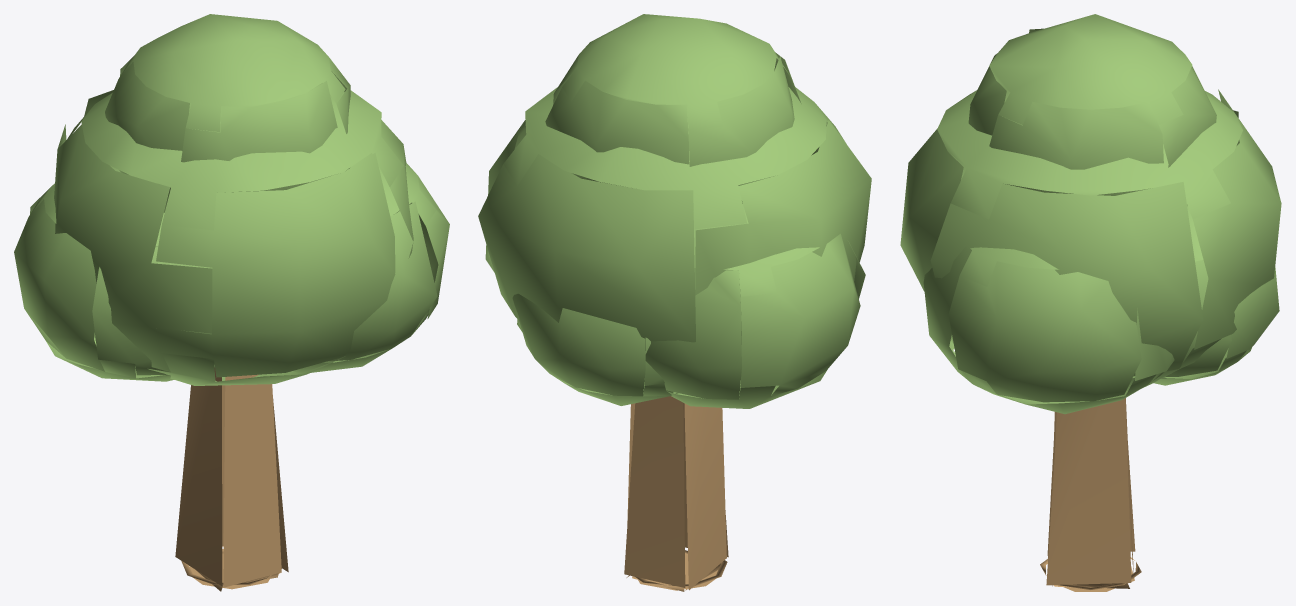
The model's file is toy_tree_felt.glb.
The picture shows the model from 3 angles, left to right: view 1: azimuth 30°, elevation 25°; view 2: azimuth 150°, elevation 25°; view 3: azimuth 270°, elevation 25°; orthographic projection.
Parts seen in each view (by area): view 1: Crown_0, Crown_4, Trunk, Crown_1, Crown_2; view 2: Crown_0, Crown_4, Crown_1, Trunk, Crown_3; view 3: Crown_0, Crown_4, Crown_2, Trunk, Crown_3.
Part boxes in pixels (x1,y1,x2,y2): Crown_0: (54, 83, 413, 385); Crown_4: (105, 14, 350, 212); Trunk: (175, 367, 288, 591); Crown_1: (14, 165, 214, 381); Crown_2: (293, 153, 449, 373); Crown_0: (478, 87, 871, 384); Crown_4: (545, 14, 801, 203); Crown_1: (644, 204, 865, 408); Trunk: (624, 396, 728, 591); Crown_3: (512, 267, 695, 405); Crown_0: (900, 81, 1281, 391); Crown_4: (968, 14, 1216, 205); Crown_2: (923, 246, 1174, 414); Trunk: (1040, 398, 1141, 591); Crown_3: (1132, 205, 1279, 385).
Bounding box in the file's own units: 2.8 × 3.97 × 2.52.
